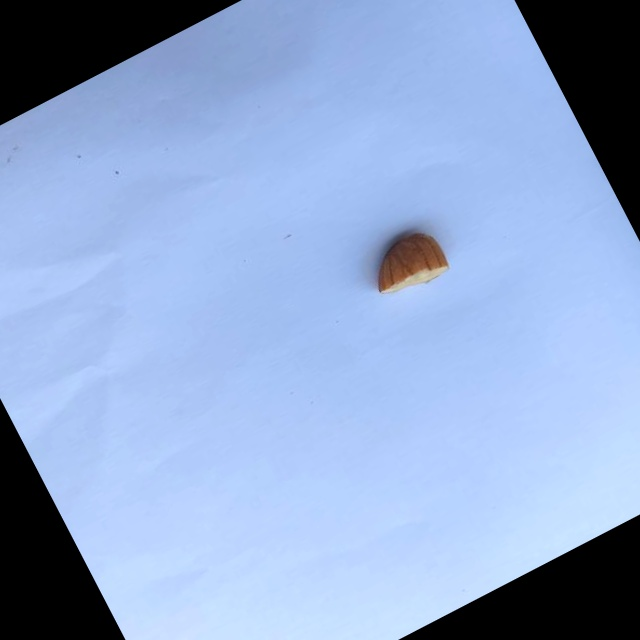grade4: (351, 215, 461, 312)
